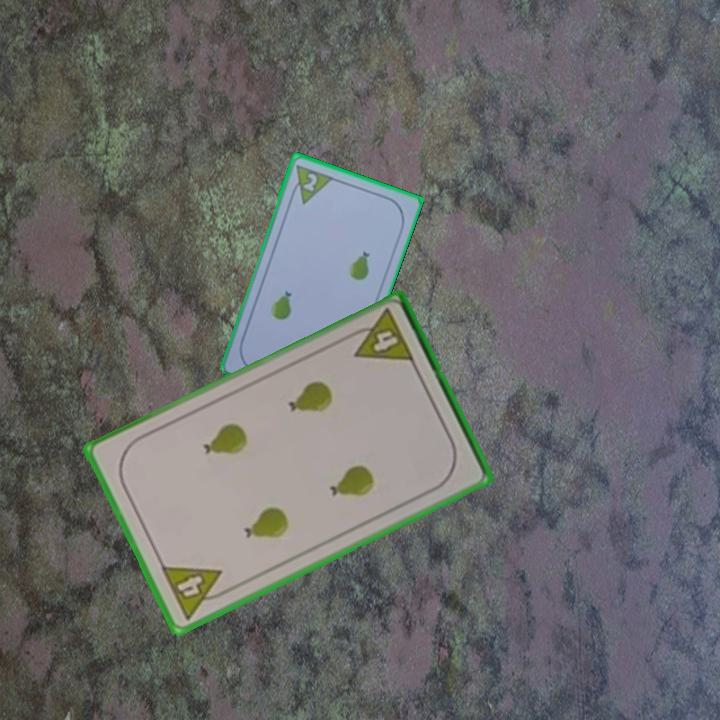2p: (286, 161, 336, 206)
4p: (157, 562, 233, 623), (343, 305, 417, 366)
